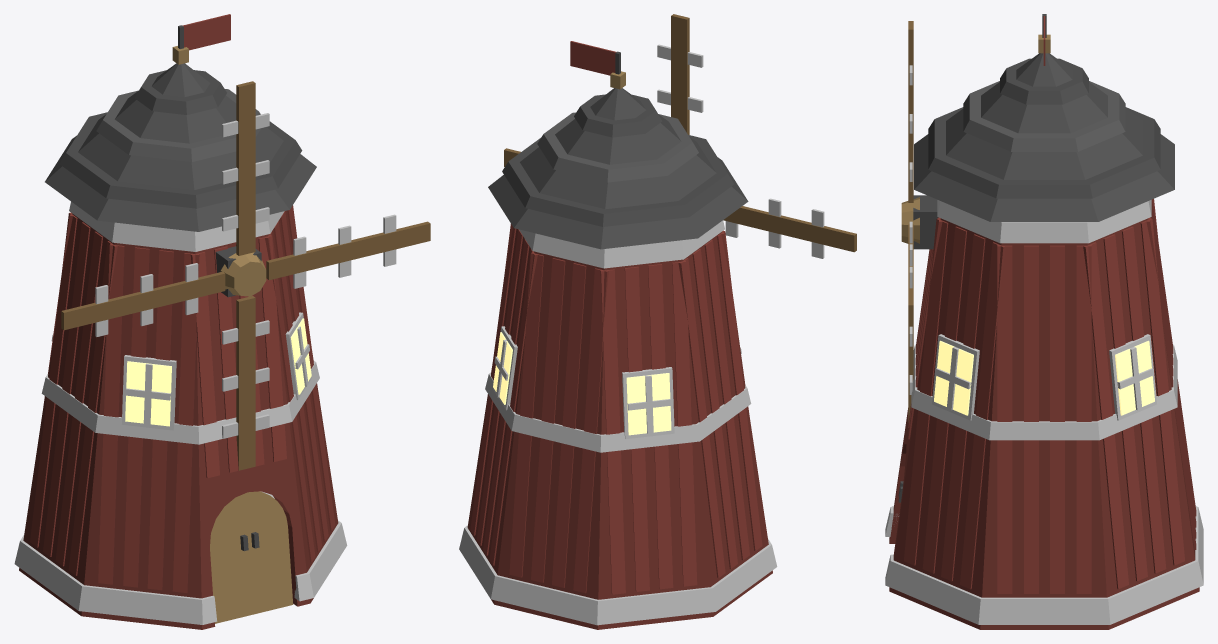
The model's file is Windmill.glb.
3 renders of one model, left to right at view 1: azimuth 30°, elevation 25°; view 2: azimuth 150°, elevation 25°; view 3: azimuth 270°, elevation 25°, orthographic. The views are drawn at different scales.
Visible parts, largest first — view 1: Windmill_Tower, Windmill_Cap, Windmill_TrimBase, Windmill_Shingle0, Windmill_DoorR, Windmill_Plank_5_0, Windmill_Plank_5_3, Windmill_DoorL, Windmill_BandMid, Windmill_Plank_5_2, Windmill_Plank_5_1, Windmill_TrimTop (+23 smaller); view 2: Windmill_Tower, Windmill_Cap, Windmill_TrimBase, Windmill_Shingle0, Windmill_BandMid, Windmill_Plank_3_3, Windmill_Plank_3_0, Windmill_Plank_2_1, Windmill_Plank_2_2, Windmill_Plank_2_3, Windmill_Plank_2_0, Windmill_Shingle1 (+18 smaller); view 3: Windmill_Tower, Windmill_Cap, Windmill_TrimBase, Windmill_Shingle0, Windmill_Plank_0_0, Windmill_Plank_0_3, Windmill_BandMid, Windmill_Plank_0_1, Windmill_Plank_0_2, Windmill_Shingle1, Windmill_TrimTop, Windmill_Plank_6_3 (+21 smaller).
Part boxes in pixels (left/top/right/bottom): Windmill_Tower: left=19, top=210, right=338, bottom=629; Windmill_Cap: left=45, top=63, right=316, bottom=231; Windmill_TrimBase: left=14, top=491, right=347, bottom=624; Windmill_Shingle0: left=59, top=112, right=302, bottom=208; Windmill_DoorR: left=245, top=491, right=293, bottom=614; Windmill_Plank_5_0: left=98, top=244, right=124, bottom=584; Windmill_Plank_5_3: left=172, top=253, right=199, bottom=592; Windmill_DoorL: left=210, top=493, right=253, bottom=623; Windmill_BandMid: left=41, top=361, right=319, bottom=444; Windmill_Plank_5_2: left=147, top=250, right=173, bottom=590; Windmill_Plank_5_1: left=123, top=247, right=149, bottom=587; Windmill_TrimTop: left=69, top=201, right=284, bottom=251; Windmill_Tower: left=467, top=229, right=772, bottom=629; Windmill_Cap: left=488, top=88, right=748, bottom=249; Windmill_TrimBase: left=459, top=525, right=777, bottom=625; Windmill_Shingle0: left=502, top=135, right=734, bottom=226; Windmill_BandMid: left=485, top=372, right=751, bottom=452; Windmill_Plank_3_3: left=672, top=260, right=697, bottom=586; Windmill_Plank_3_0: left=600, top=269, right=625, bottom=594; Windmill_Plank_2_1: left=531, top=258, right=565, bottom=582; Windmill_Plank_2_2: left=552, top=263, right=586, bottom=587; Windmill_Plank_2_3: left=573, top=268, right=608, bottom=593; Windmill_Plank_2_0: left=509, top=252, right=543, bottom=577; Windmill_Shingle1: left=537, top=112, right=698, bottom=182; Windmill_Tower: left=889, top=218, right=1199, bottom=629; Windmill_Cap: left=914, top=53, right=1174, bottom=221; Windmill_TrimBase: left=885, top=506, right=1203, bottom=624; Windmill_Shingle0: left=928, top=107, right=1160, bottom=198; Windmill_Plank_0_0: left=997, top=244, right=1012, bottom=593; Windmill_Plank_0_3: left=1076, top=244, right=1091, bottom=593; Windmill_BandMid: left=911, top=344, right=1177, bottom=440; Windmill_Plank_0_1: left=1024, top=245, right=1038, bottom=593; Windmill_Plank_0_2: left=1050, top=245, right=1064, bottom=593; Windmill_Shingle1: left=963, top=81, right=1125, bottom=151; Windmill_TrimTop: left=937, top=200, right=1151, bottom=243; Windmill_Plank_6_3: left=960, top=242, right=1005, bottom=589.
Bounding box in the file's own units: 5.7 × 7.96 × 4.18.
